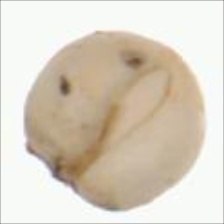L5: (97, 64, 174, 154), (23, 141, 84, 197), (139, 36, 200, 80)
L6: (20, 28, 208, 211)
